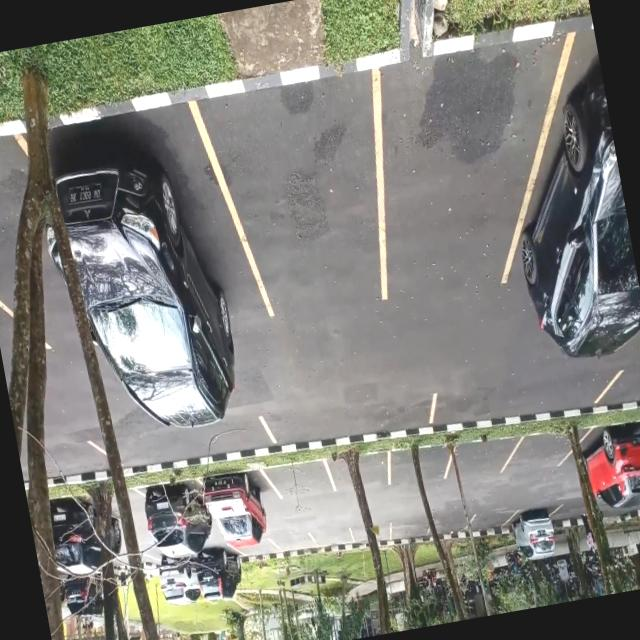car: (44, 96, 250, 367), (496, 40, 639, 312), (578, 418, 640, 504), (200, 468, 276, 538), (510, 503, 558, 552)
free: (221, 69, 405, 326), (350, 49, 528, 306), (428, 362, 618, 436), (266, 388, 443, 456), (444, 436, 516, 482), (266, 458, 335, 504), (326, 448, 394, 494), (386, 442, 452, 487), (511, 428, 575, 473), (468, 505, 513, 540), (432, 511, 475, 546), (272, 527, 316, 560), (311, 522, 354, 555), (387, 516, 431, 548), (349, 520, 392, 550)
